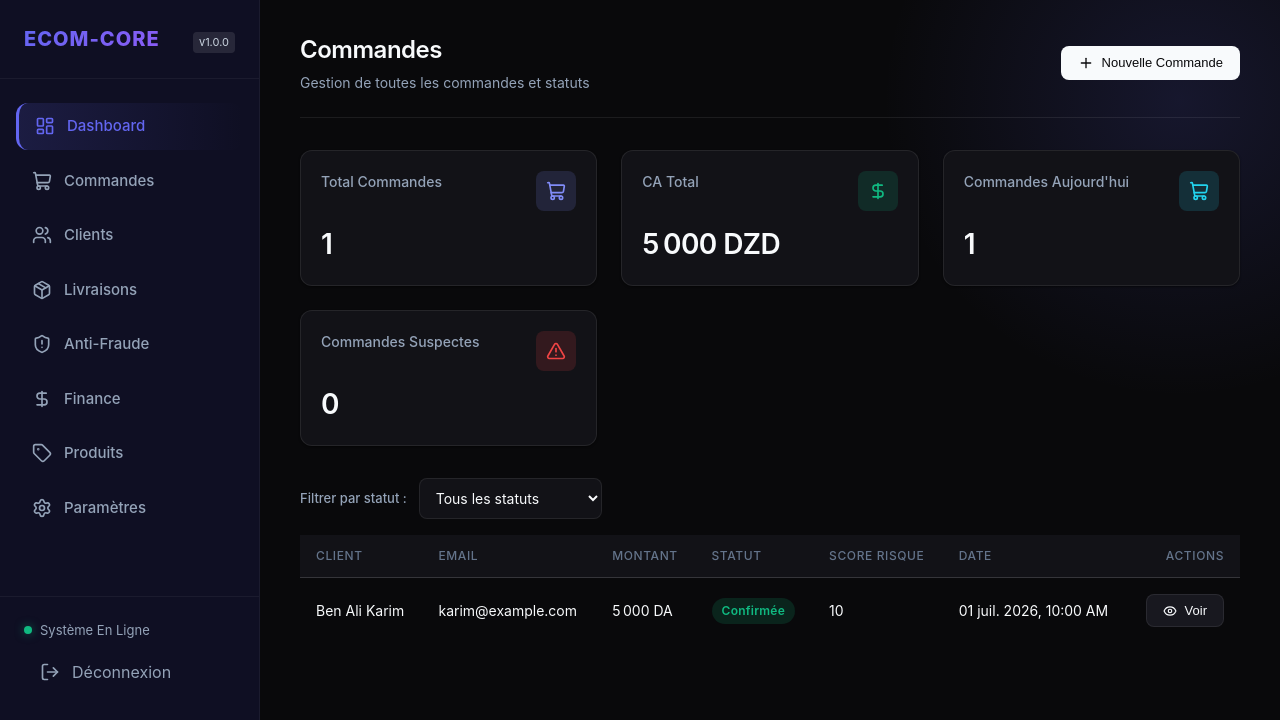
OrdersPage (smoke test module Commandes) › validation bloque la creation sans client selectionne
Expected: the text "Ben Ali Karim" is shown, [300,578,422,643]
Click the button "Nouvelle Commande".
click(1150, 62)  # box [1061,46,1240,80]
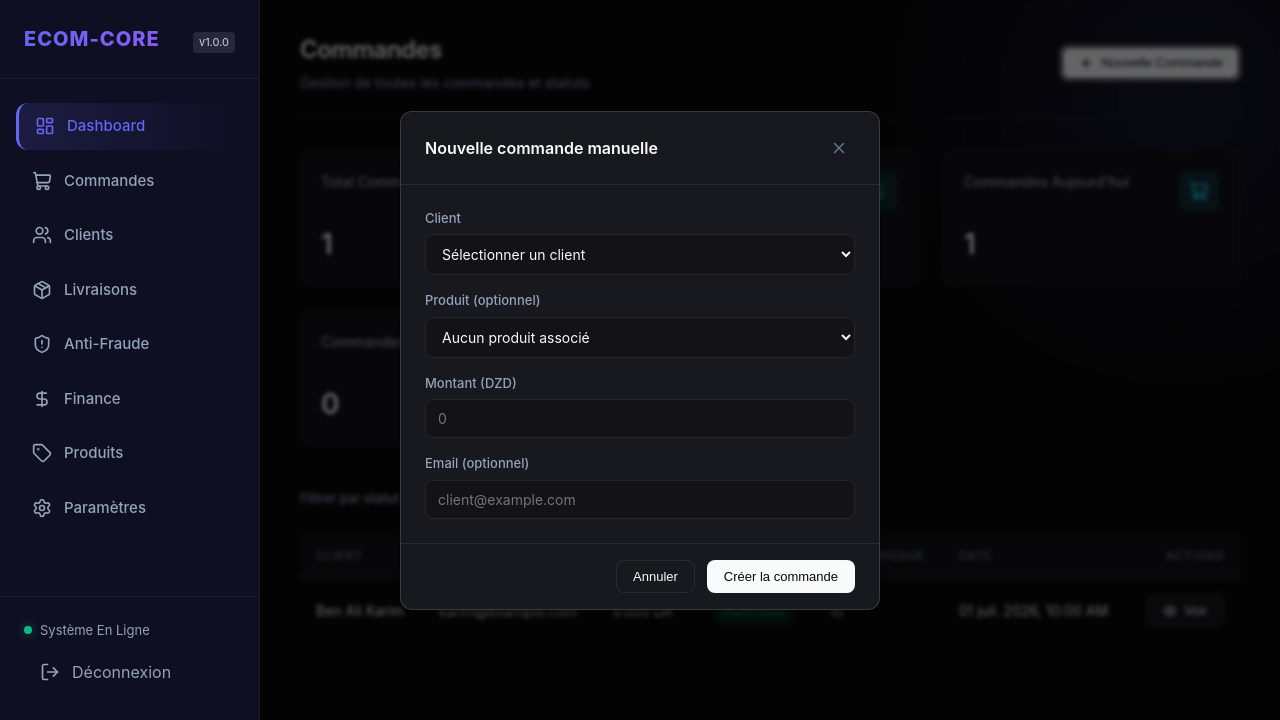
Type "3000" into the number field labelled "Montant (DZD)".
click(640, 418); type("3000")  # box [425,399,855,438]
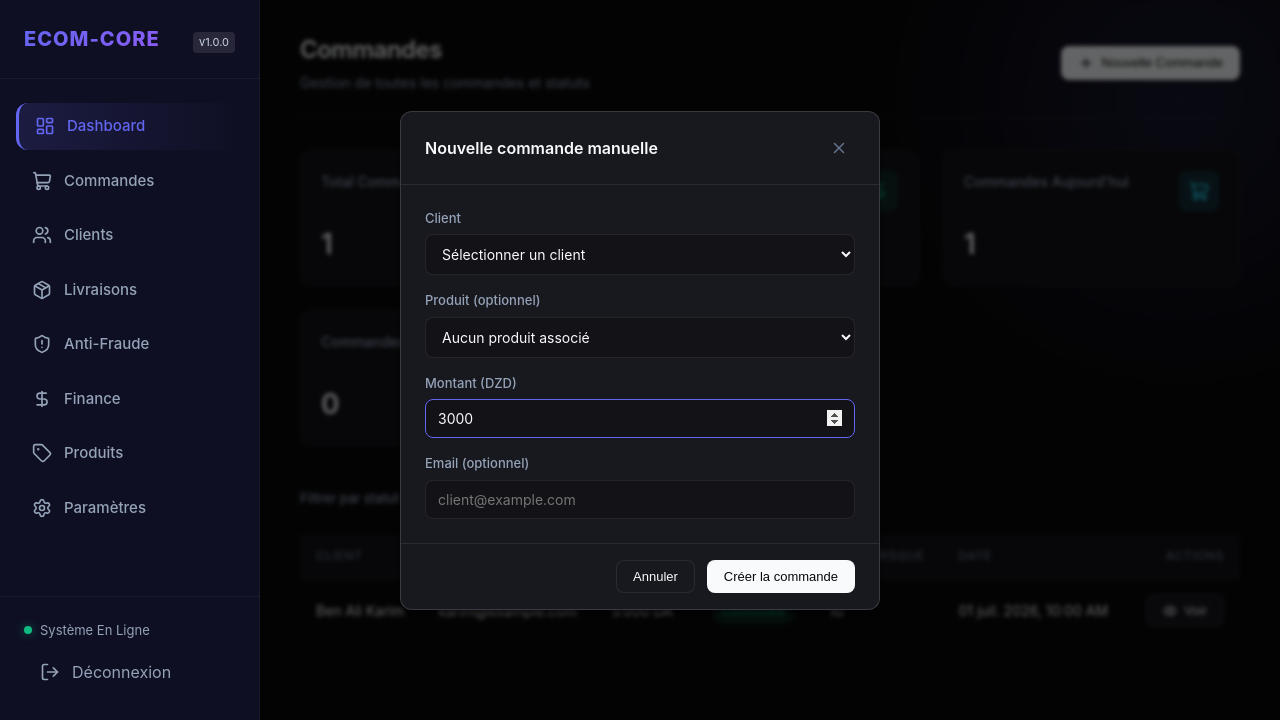
Click the button "Créer la commande".
click(781, 576)  # box [707,560,855,592]
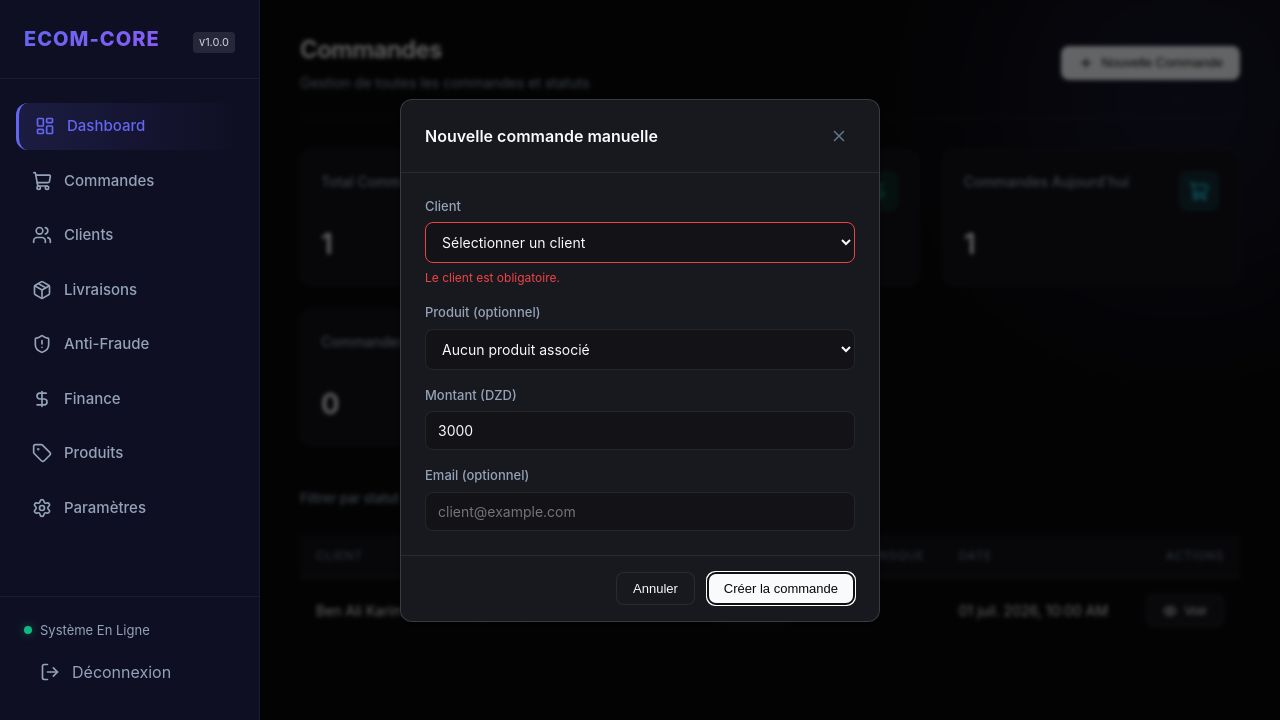
Expected: the text "Le client est obligatoire." is shown, [425,270,560,285]
